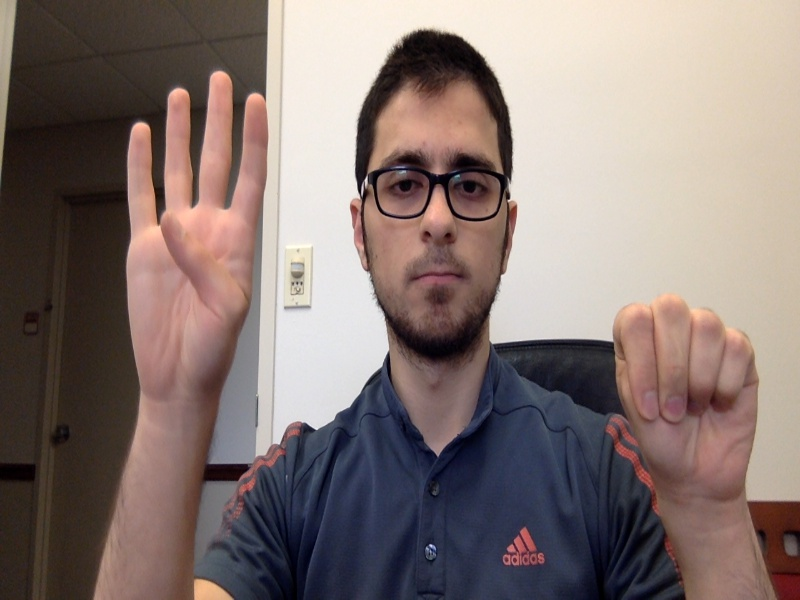0-hand: (614, 294, 759, 494)
4-hand: (127, 70, 266, 394)
